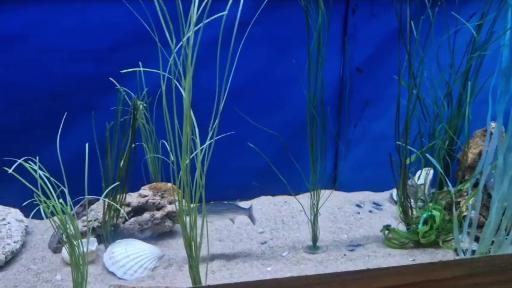Fish: (198, 202, 256, 225)
